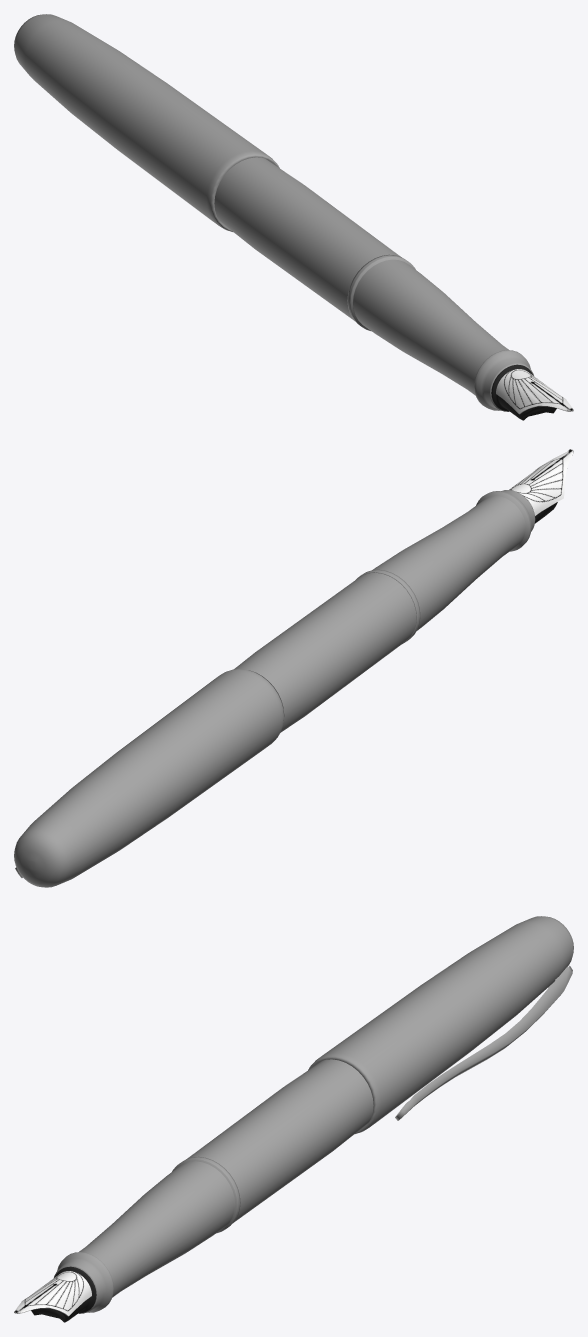
File: 5_pen.glb
3 renders of one model, top to bottom at view 1: azimuth 30°, elevation 25°; view 2: azimuth 150°, elevation 25°; view 3: azimuth 330°, elevation 25°, orthographic.
Visible parts, largest first — view 1: Fountain Pen Steel; view 2: Fountain Pen Steel; view 3: Fountain Pen Steel.
Part boxes in pixels (x1,y1,x2,y2): Fountain Pen Steel: (14,14,573,420); Fountain Pen Steel: (14,449,573,887); Fountain Pen Steel: (14,916,573,1322).
Size of the model in its own units: 0.0115 by 0.0107 by 0.134.
Materials: 4 (1 with a texture image).
